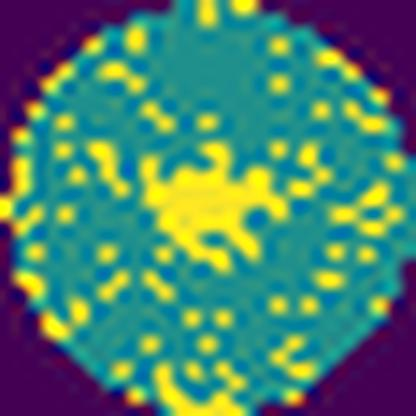Center: (139, 145, 291, 276)
